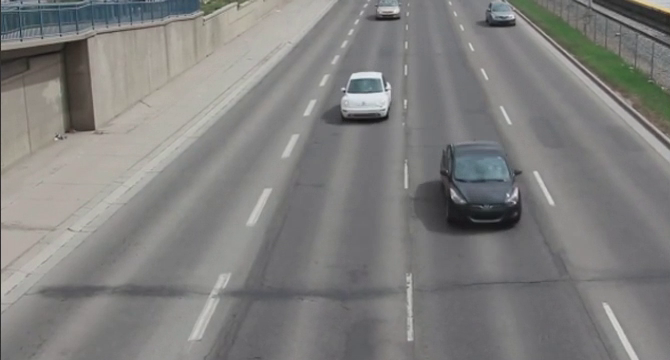car: (432, 138, 527, 235), (339, 66, 395, 125), (485, 2, 515, 23), (376, 1, 402, 20)
